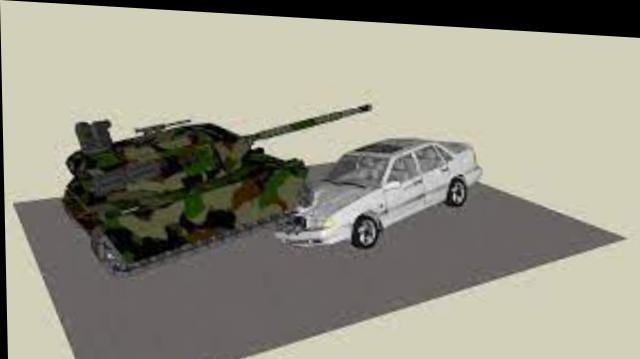tank: (66, 128, 292, 236)
